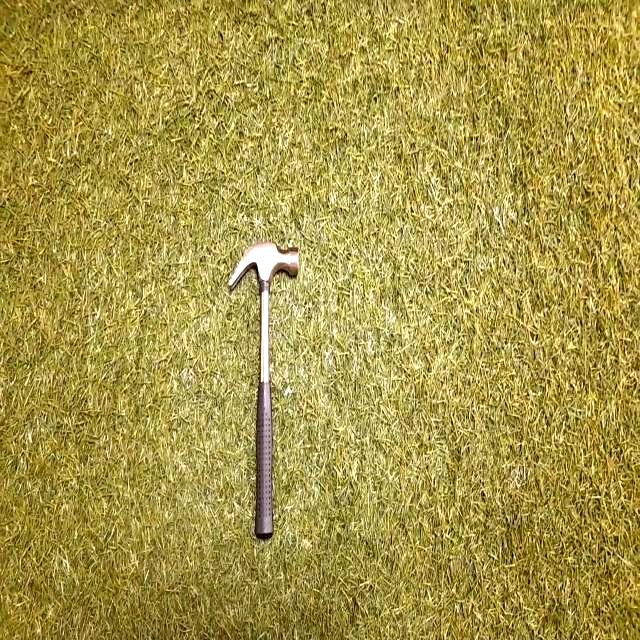hammer: (226, 236, 304, 544)
